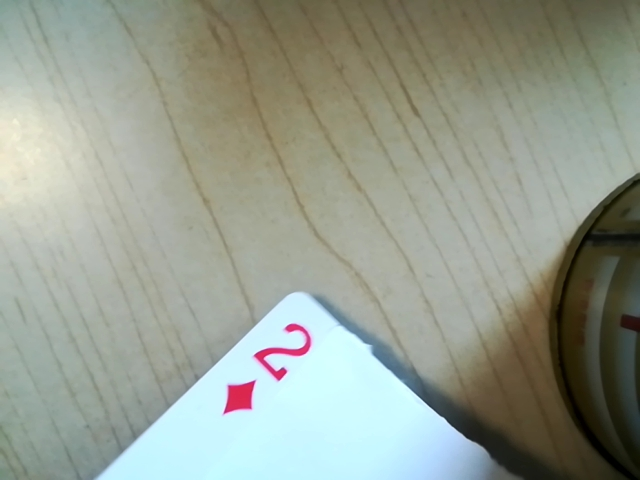fk 2: (212, 317, 330, 418)
